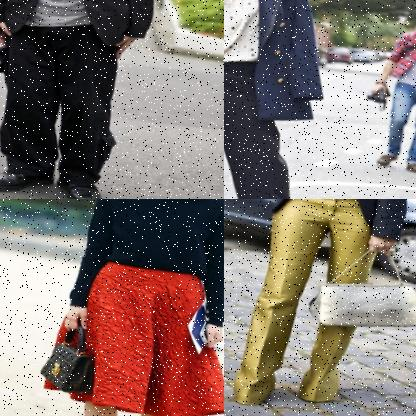jacket: (224, 0, 337, 132), (263, 199, 416, 240)
pants: (0, 12, 129, 190), (224, 47, 335, 199)
polar: (65, 199, 224, 327)
skirt: (39, 256, 224, 416)
